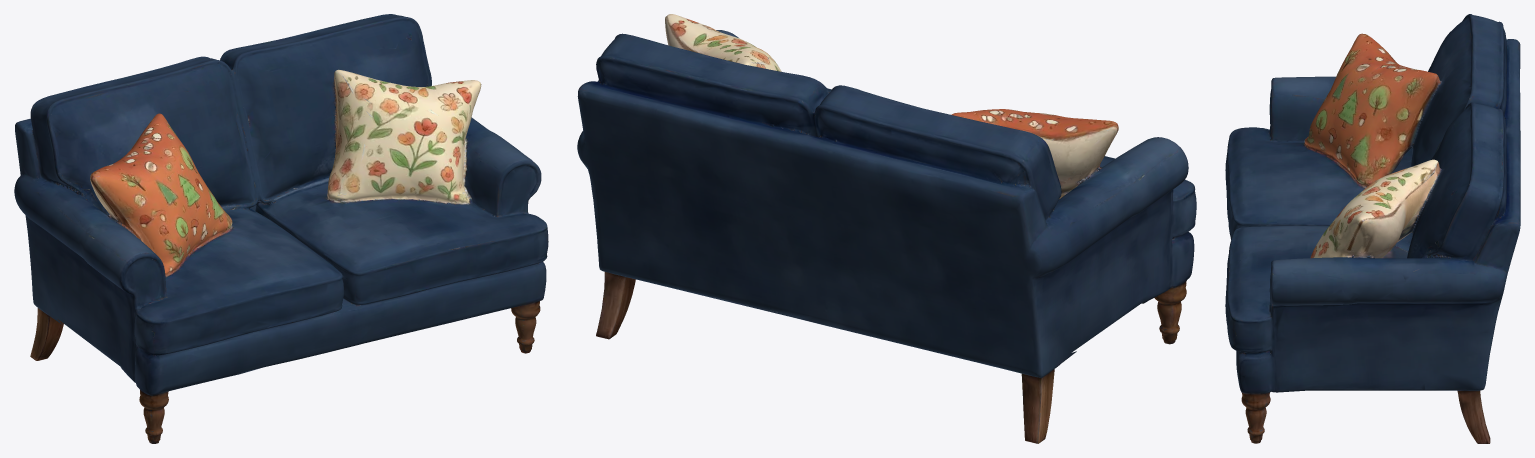
The model's file is sofa.glb.
3 renders of one model, left to right at view 1: azimuth 30°, elevation 25°; view 2: azimuth 150°, elevation 25°; view 3: azimuth 270°, elevation 25°, orthographic. The views are drawn at different scales.
Parts seen in each view (by area): view 1: Mesh_0; view 2: Mesh_0; view 3: Mesh_0.
Boxes of the visible parts, <box> form: Mesh_0: <box>14,14,548,443</box>; Mesh_0: <box>577,14,1196,443</box>; Mesh_0: <box>1225,14,1520,443</box>.
Size of the model in its own units: 1.91 by 1.13 by 1.18.
1 material, 1 textured.
